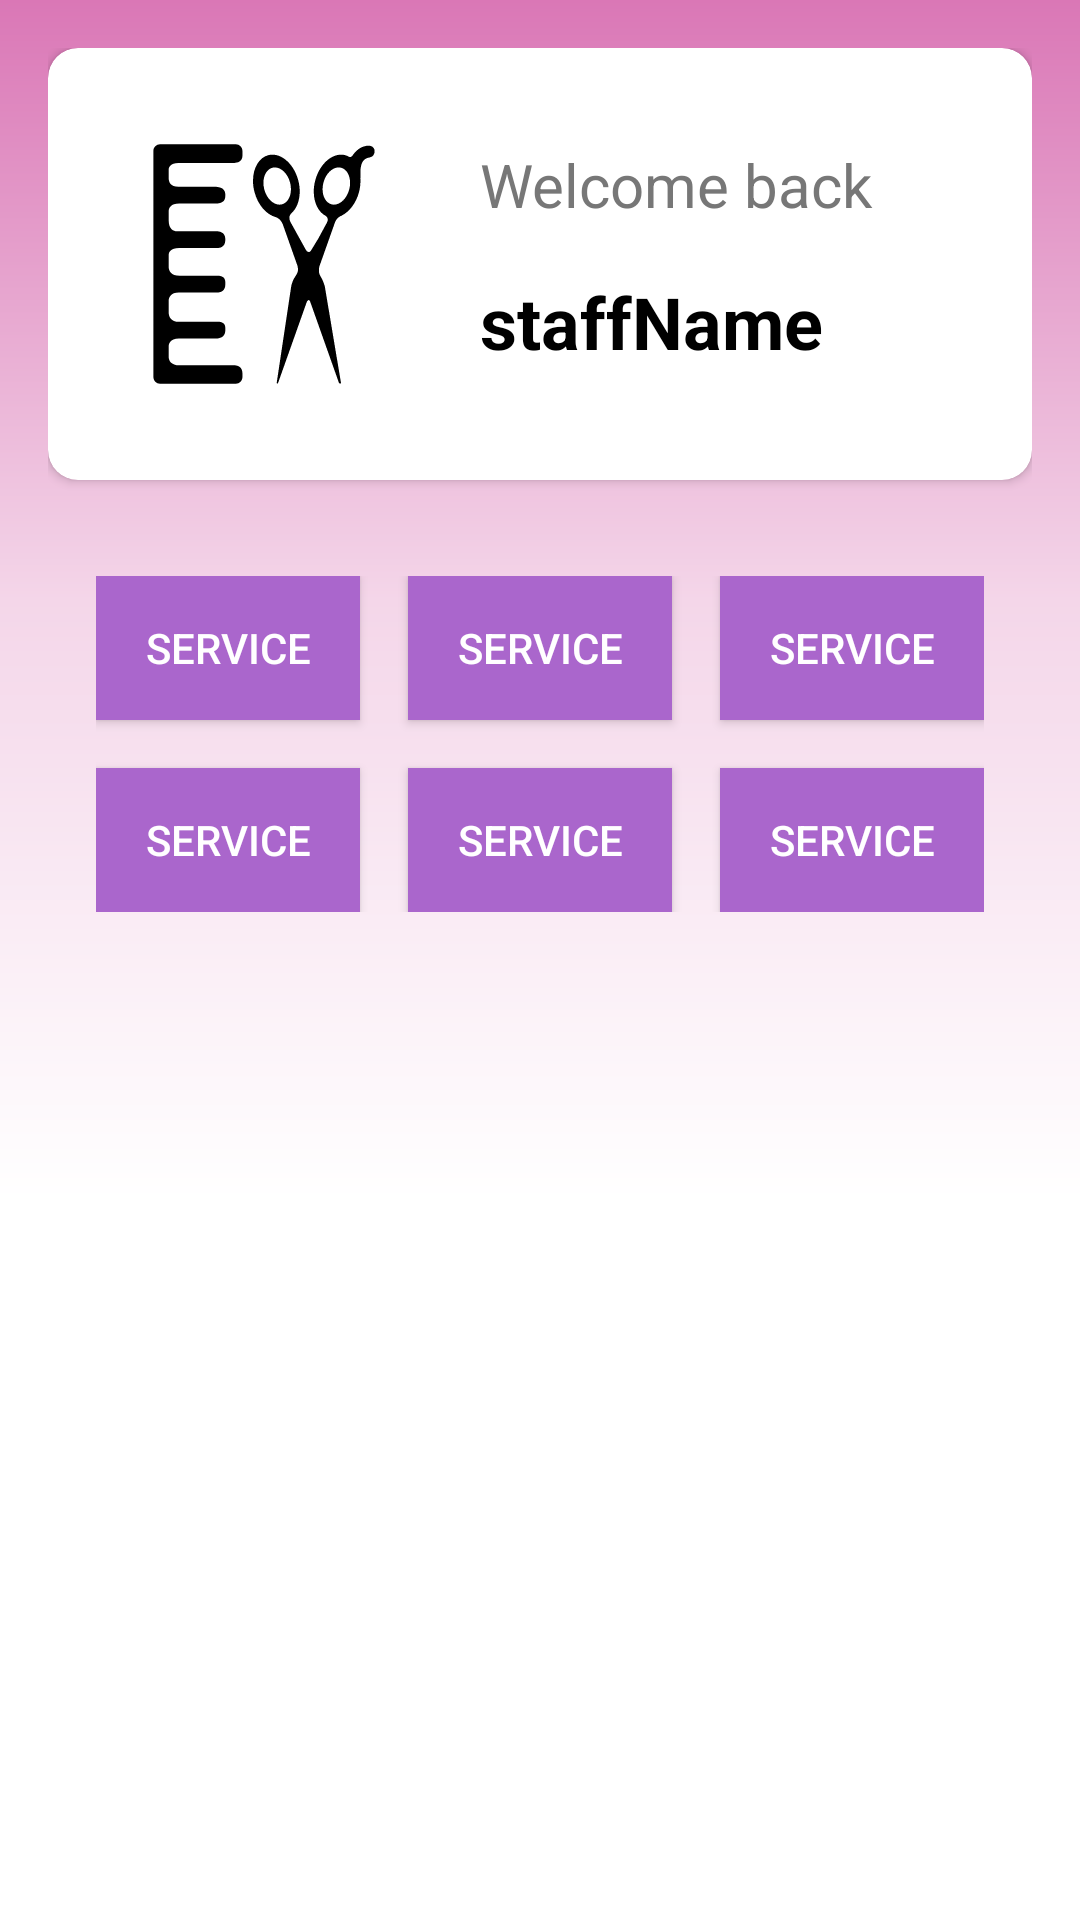

Screen size 1080 × 1920. Icon name, then its center in pixels as point (x, y):
hair: point (264, 264)
